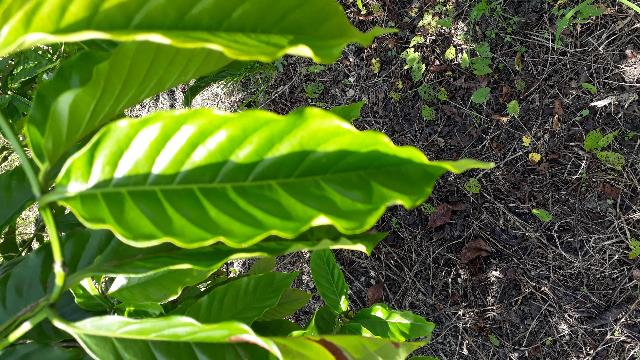healthy: (55, 104, 493, 250)
